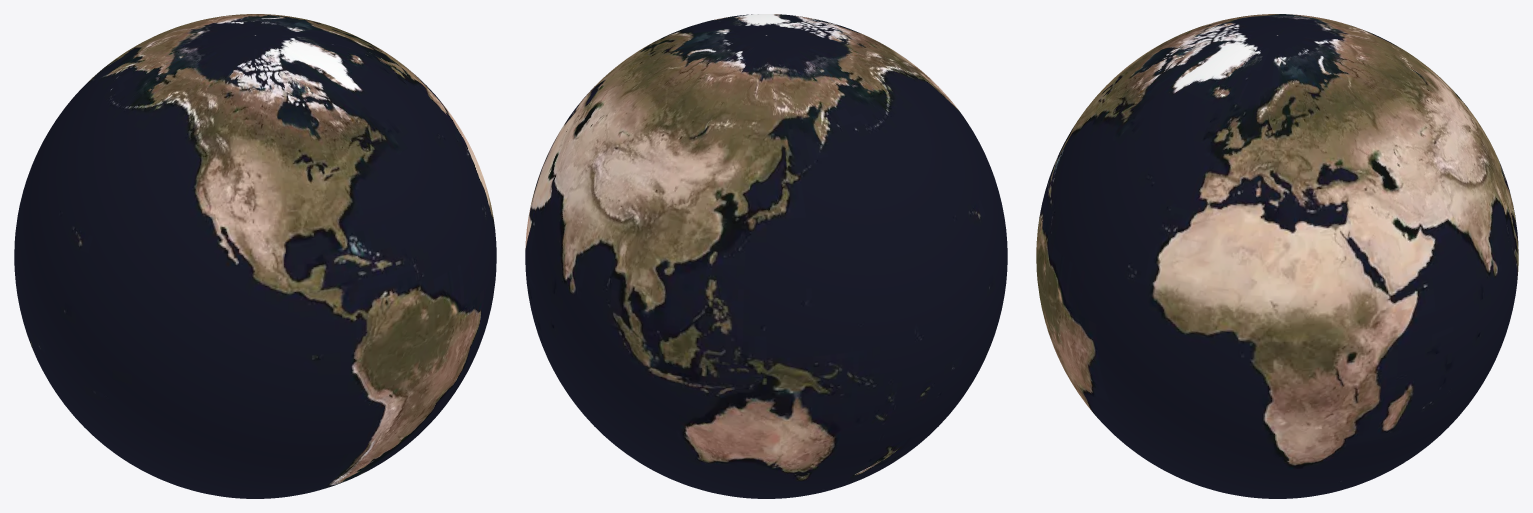
Rendered from earth-opt.glb.
3 renders of one model, left to right at view 1: azimuth 30°, elevation 25°; view 2: azimuth 150°, elevation 25°; view 3: azimuth 270°, elevation 25°, orthographic.
Visible parts, largest first — view 1: Sphere_Material.001_0; view 2: Sphere_Material.001_0; view 3: Sphere_Material.001_0.
Part boxes in pixels (left/top/right/bottom): Sphere_Material.001_0: left=14, top=14, right=496, bottom=498; Sphere_Material.001_0: left=525, top=14, right=1007, bottom=498; Sphere_Material.001_0: left=1036, top=14, right=1518, bottom=498.
Size of the model in its own units: 1.97 by 2 by 1.97.
Materials: 1 (1 with a texture image).
